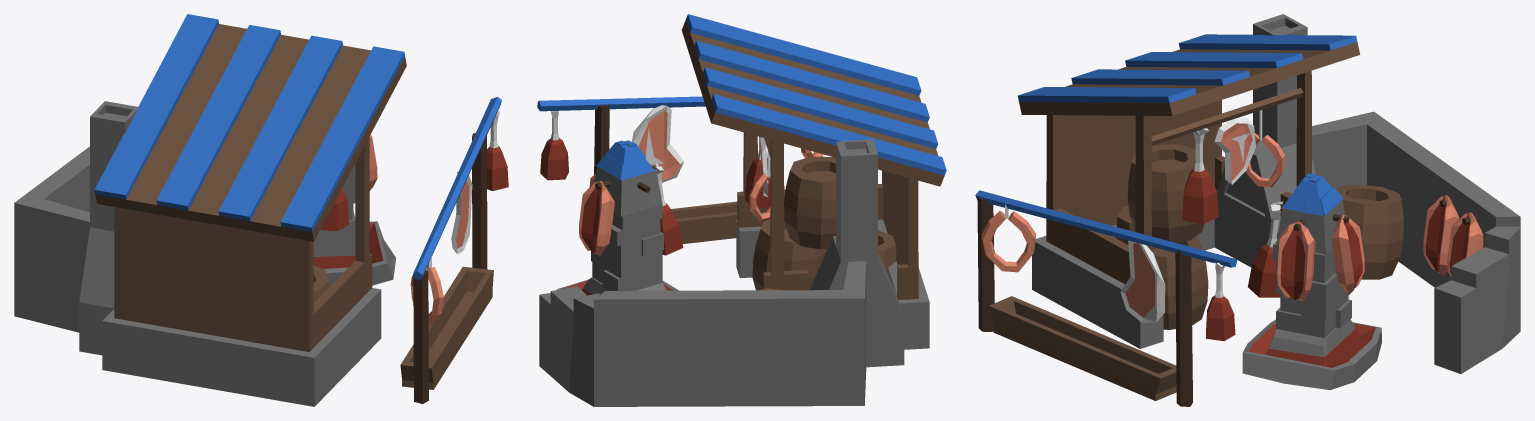
The model's file is Butcher_LvL3.fbx.
The picture shows the model from 3 angles, left to right: view 1: azimuth 30°, elevation 25°; view 2: azimuth 150°, elevation 25°; view 3: azimuth 270°, elevation 25°; orthographic projection. The views are drawn at different scales.
Visible parts, largest first — view 1: Holz 2.001, Stein, teamcolor.004, Holz 1, Fleisch_dunkel, Fleisch hell.001, Knochen/hell; view 2: Stein, teamcolor.004, Holz 2.001, Holz 1, Fleisch_dunkel, Fleisch hell.001, Knochen/hell; view 3: Stein, Holz 2.001, Holz 1, teamcolor.004, Fleisch_dunkel, Fleisch hell.001, Knochen/hell.
Boxes of the visible parts, bbox=[...] form: Holz 2.001: bbox=[95, 24, 487, 403]; Stein: bbox=[14, 101, 396, 406]; teamcolor.004: bbox=[94, 14, 501, 279]; Holz 1: bbox=[88, 211, 493, 389]; Fleisch_dunkel: bbox=[313, 146, 508, 268]; Fleisch hell.001: bbox=[369, 134, 469, 325]; Knochen/hell: bbox=[427, 111, 499, 268]; Stein: bbox=[539, 139, 929, 406]; teamcolor.004: bbox=[537, 14, 946, 180]; Holz 2.001: bbox=[594, 20, 944, 299]; Holz 1: bbox=[671, 156, 896, 290]; Fleisch_dunkel: bbox=[540, 138, 770, 295]; Fleisch hell.001: bbox=[579, 110, 823, 256]; Knochen/hell: bbox=[550, 105, 770, 206]; Stein: bbox=[1032, 14, 1520, 389]; Holz 2.001: bbox=[977, 42, 1476, 406]; Holz 1: bbox=[989, 144, 1403, 400]; teamcolor.004: bbox=[975, 34, 1357, 267]; Fleisch_dunkel: bbox=[1182, 168, 1470, 367]; Fleisch hell.001: bbox=[981, 123, 1483, 317]; Knochen/hell: bbox=[1005, 110, 1283, 322].
Bounding box in the file's own units: 161 × 100 × 179.
